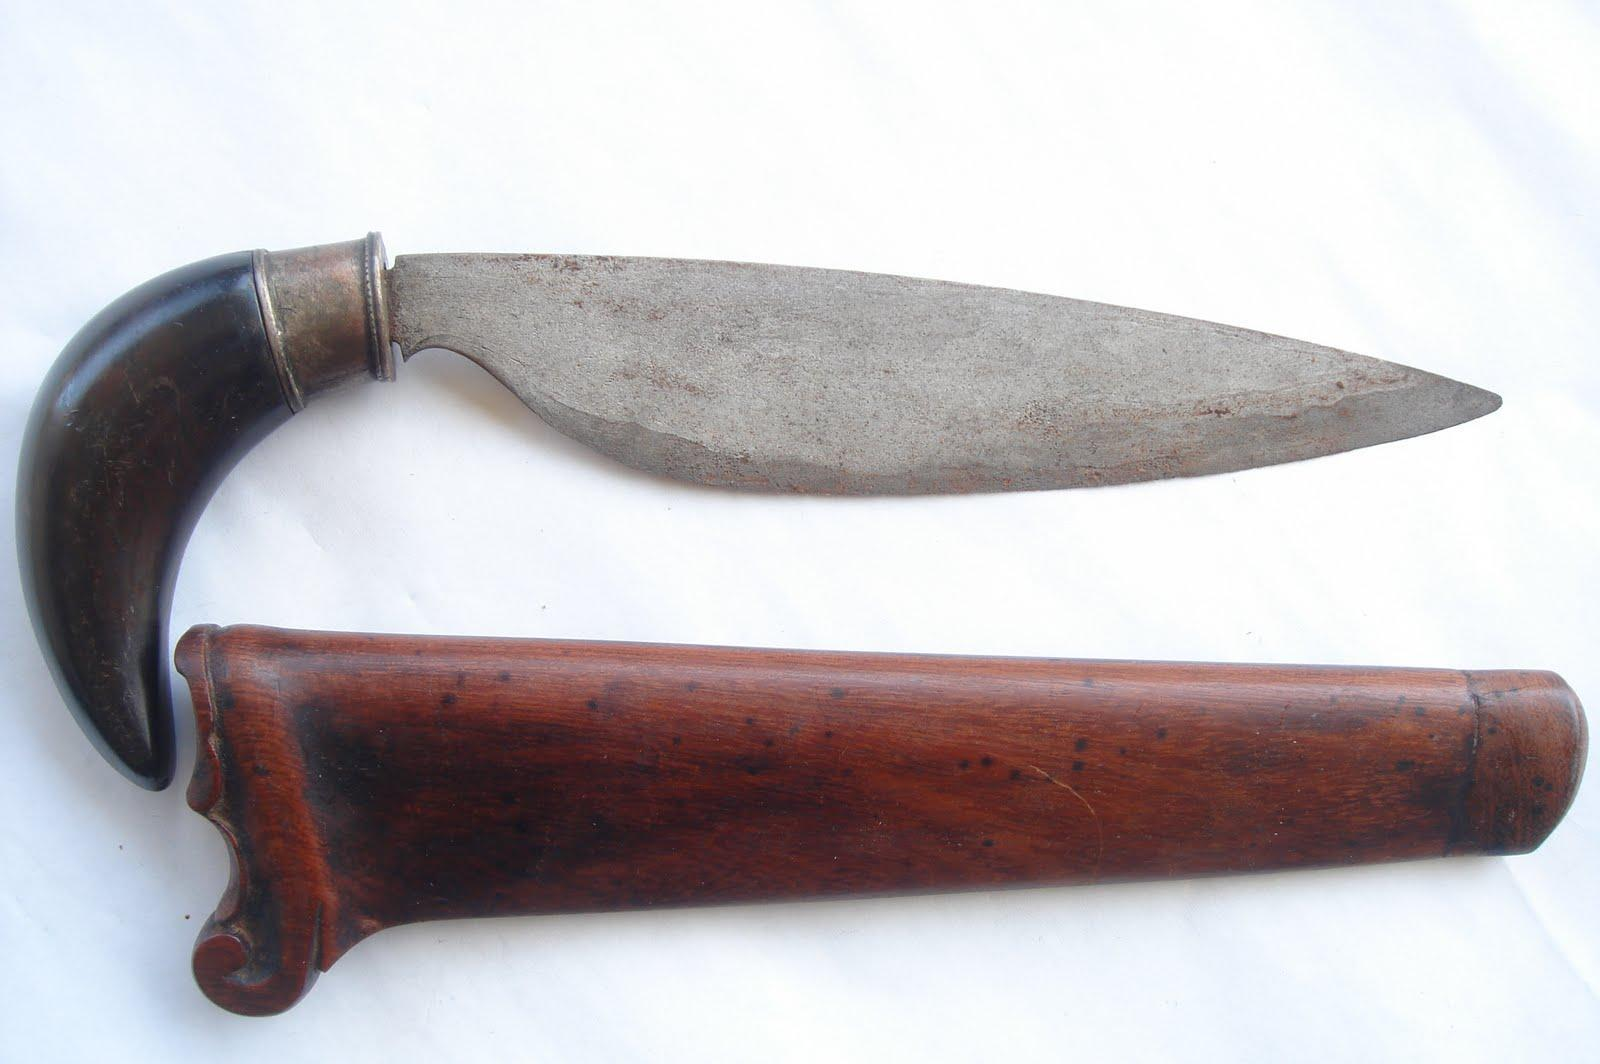facao: (19, 234, 1500, 787)
